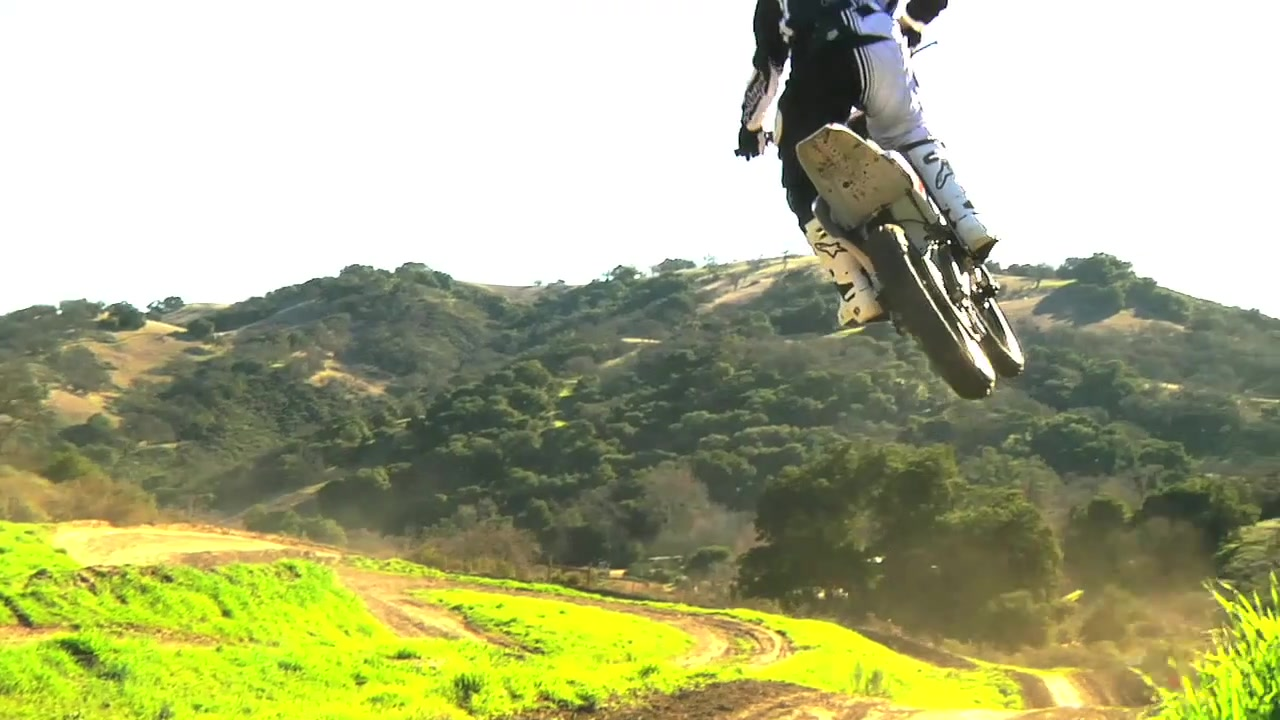motorbike: (735, 32, 1030, 400)
